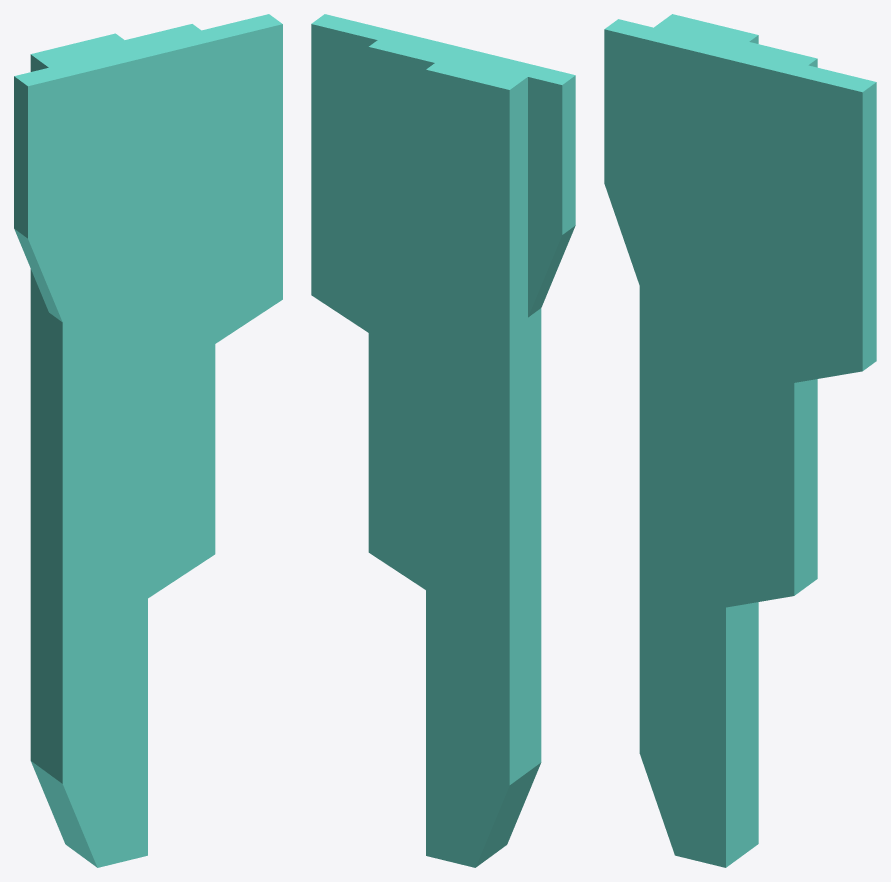
The model's file is hanging_moss.glb.
3 views of the same model, side by side, from view 1: azimuth 30°, elevation 25°; view 2: azimuth 150°, elevation 25°; view 3: azimuth 330°, elevation 25° (orthographic). The views are drawn at different scales.
Visible parts, largest first — view 1: hanging_moss; view 2: hanging_moss; view 3: hanging_moss.
Part boxes in pixels (left/top/right/bottom): hanging_moss: left=14, top=14, right=282, bottom=867; hanging_moss: left=311, top=14, right=575, bottom=867; hanging_moss: left=604, top=14, right=876, bottom=867.
Size of the model in its own units: 0.1598 by 0.4785 by 0.035.
Materials: 1 (1 with a texture image).
